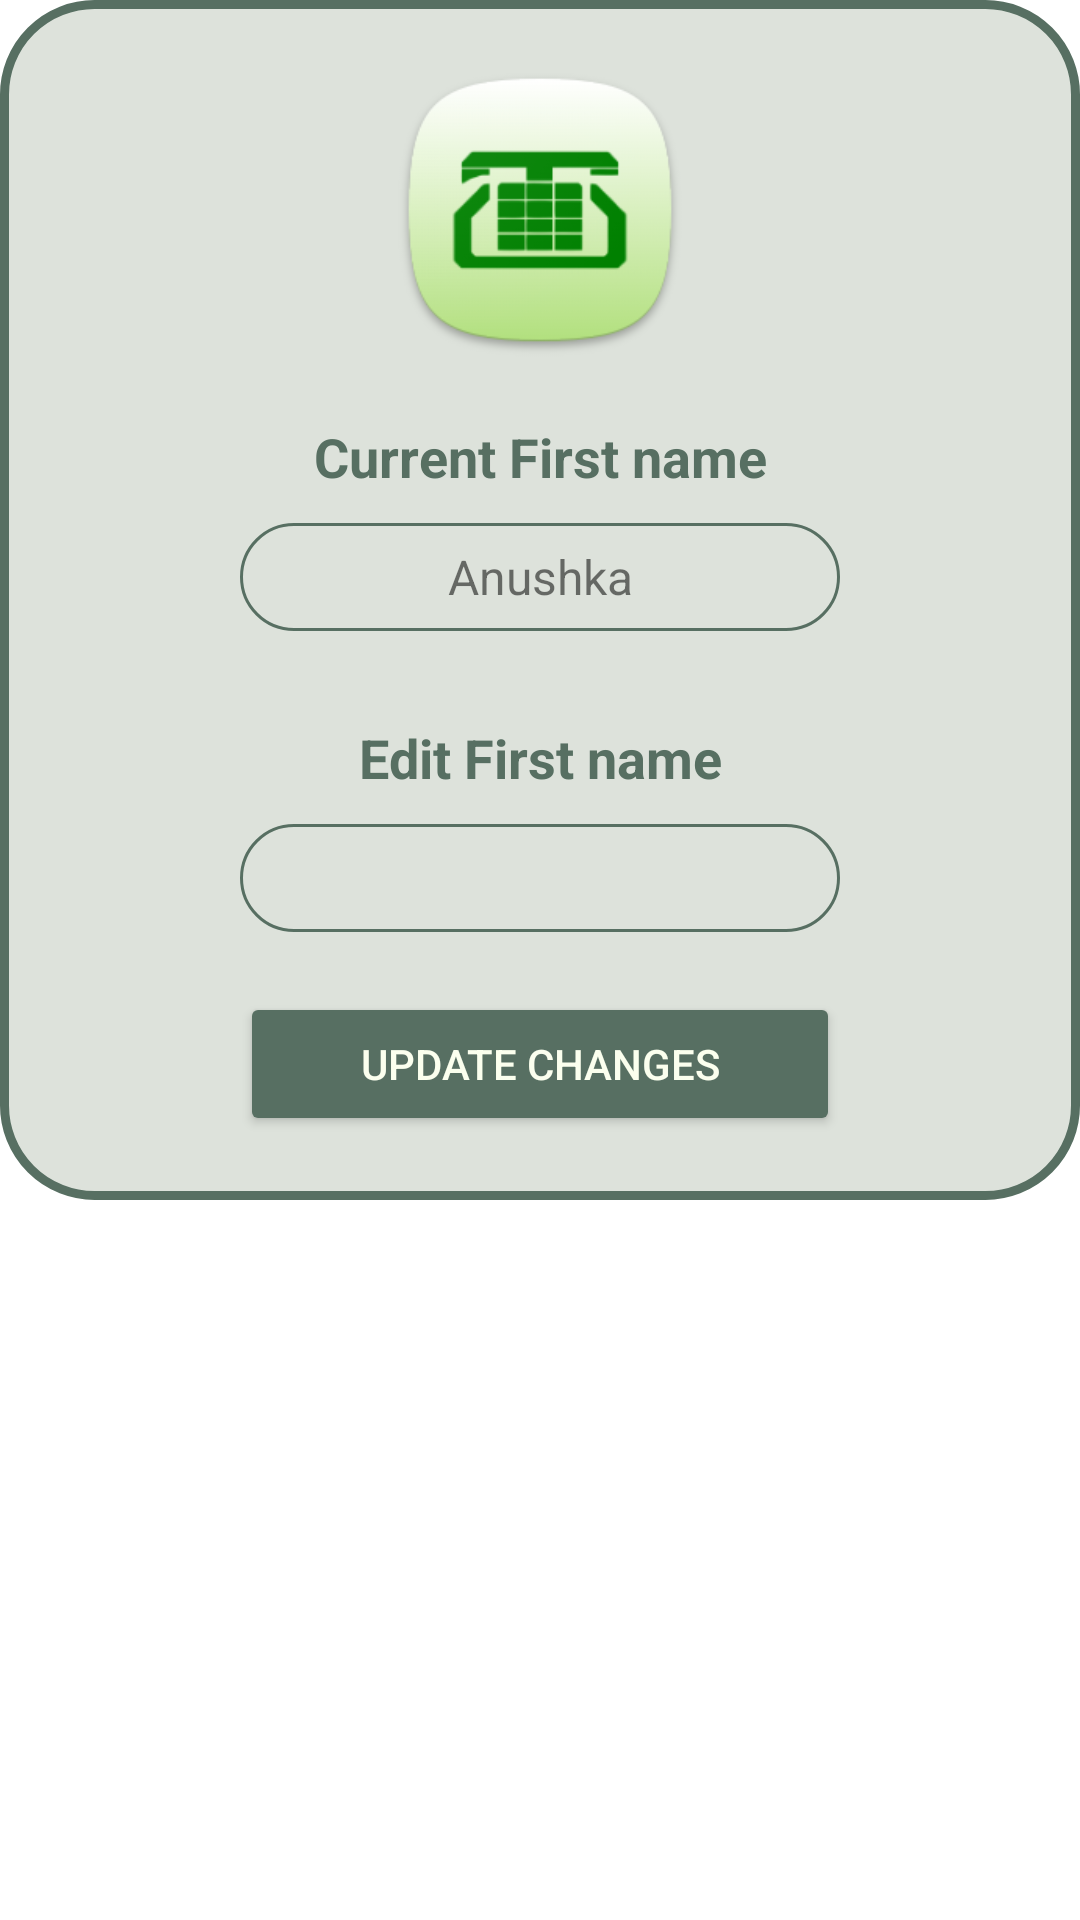

Where to tap for icons on this 1080px x 1920px app screen, as [x,y]:
mainicon: [540,213]
